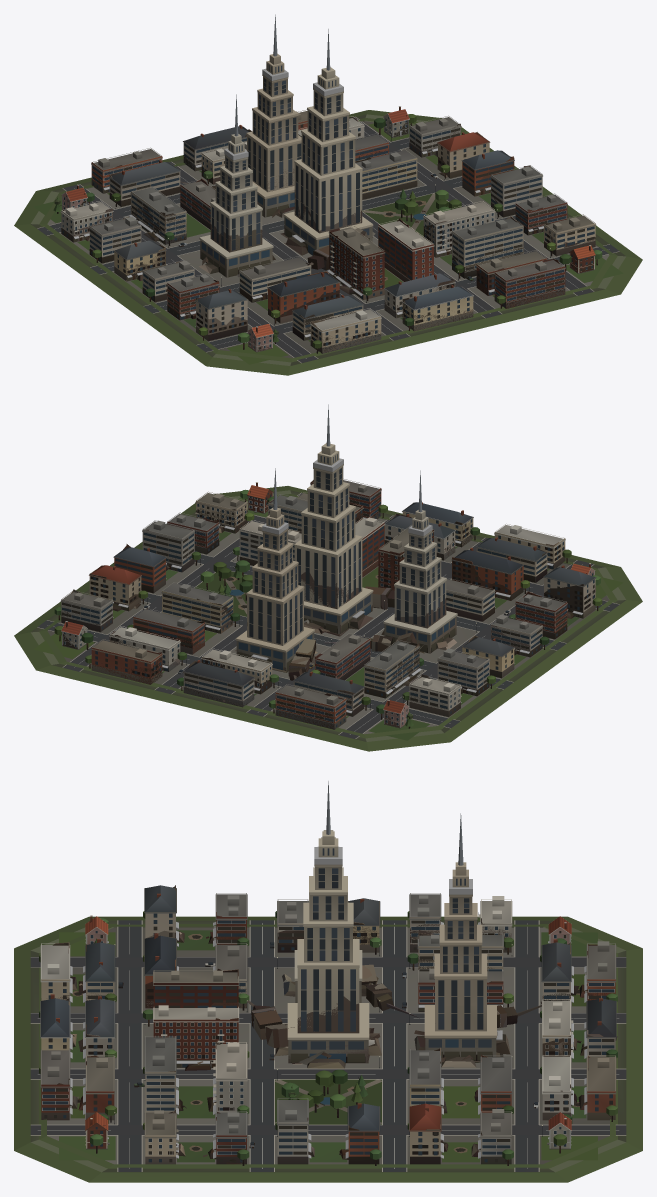
The model's file is city_ww2_city_fractured.glb.
3 renders of one model, top to bottom at view 1: azimuth 30°, elevation 25°; view 2: azimuth 150°, elevation 25°; view 3: azimuth 270°, elevation 25°, orthographic. The views are drawn at different scales.
Parts seen in each view (by area): view 1: city_ww2_city_DMG_mesh, city_ww2_city_RUIN_LOD0_mesh, city_ww2_city_RUIN_LOD1_mesh, city_ww2_city_RUIN_LOD2_mesh, city_ww2_city_FRAC_static_mesh, city_ww2_city_FRAC_16_mesh, city_ww2_city_FRAC_01_mesh, city_ww2_city_FRAC_05_mesh, city_ww2_city_FRAC_12_mesh, city_ww2_city_FRAC_19_mesh, city_ww2_city_FRAC_03_mesh, city_ww2_city_FRAC_24_mesh (+18 smaller); view 2: city_ww2_city_DMG_mesh, city_ww2_city_RUIN_LOD0_mesh, city_ww2_city_RUIN_LOD1_mesh, city_ww2_city_RUIN_LOD2_mesh, city_ww2_city_FRAC_static_mesh, city_ww2_city_FRAC_01_mesh, city_ww2_city_FRAC_05_mesh, city_ww2_city_FRAC_12_mesh, city_ww2_city_FRAC_20_mesh, city_ww2_city_FRAC_13_mesh, city_ww2_city_FRAC_03_mesh, city_ww2_city_FRAC_25_mesh (+19 smaller); view 3: city_ww2_city_DMG_mesh, city_ww2_city_RUIN_LOD0_mesh, city_ww2_city_RUIN_LOD2_mesh, city_ww2_city_FRAC_static_mesh, city_ww2_city_RUIN_LOD1_mesh, city_ww2_city_FRAC_16_mesh, city_ww2_city_FRAC_01_mesh, city_ww2_city_FRAC_03_mesh, city_ww2_city_FRAC_19_mesh, city_ww2_city_FRAC_21_mesh, city_ww2_city_FRAC_20_mesh, city_ww2_city_FRAC_25_mesh (+16 smaller).
Boxes of the visible parts, left/top/right/bottom form: city_ww2_city_DMG_mesh: left=37, top=15, right=619, bottom=353; city_ww2_city_RUIN_LOD0_mesh: left=26, top=113, right=630, bottom=368; city_ww2_city_RUIN_LOD1_mesh: left=14, top=110, right=642, bottom=375; city_ww2_city_RUIN_LOD2_mesh: left=39, top=117, right=617, bottom=362; city_ww2_city_FRAC_static_mesh: left=37, top=116, right=619, bottom=363; city_ww2_city_FRAC_16_mesh: left=328, top=219, right=434, bottom=298; city_ww2_city_FRAC_01_mesh: left=294, top=29, right=362, bottom=197; city_ww2_city_FRAC_05_mesh: left=210, top=94, right=262, bottom=239; city_ww2_city_FRAC_12_mesh: left=239, top=256, right=340, bottom=317; city_ww2_city_FRAC_19_mesh: left=423, top=201, right=523, bottom=280; city_ww2_city_FRAC_03_mesh: left=247, top=17, right=301, bottom=176; city_ww2_city_FRAC_24_mesh: left=461, top=150, right=542, bottom=211; city_ww2_city_DMG_mesh: left=37, top=410, right=619, bottom=729; city_ww2_city_RUIN_LOD0_mesh: left=26, top=480, right=630, bottom=744; city_ww2_city_RUIN_LOD1_mesh: left=14, top=486, right=642, bottom=751; city_ww2_city_RUIN_LOD2_mesh: left=39, top=493, right=617, bottom=738; city_ww2_city_FRAC_static_mesh: left=37, top=492, right=619, bottom=738; city_ww2_city_FRAC_01_mesh: left=294, top=404, right=362, bottom=573; city_ww2_city_FRAC_05_mesh: left=394, top=470, right=446, bottom=615; city_ww2_city_FRAC_12_mesh: left=441, top=547, right=529, bottom=615; city_ww2_city_FRAC_20_mesh: left=127, top=583, right=236, bottom=646; city_ww2_city_FRAC_13_mesh: left=314, top=633, right=420, bottom=695; city_ww2_city_FRAC_03_mesh: left=247, top=468, right=303, bottom=630; city_ww2_city_FRAC_25_mesh: left=54, top=565, right=149, bottom=624; city_ww2_city_DMG_mesh: left=39, top=782, right=617, bottom=1171; city_ww2_city_RUIN_LOD0_mesh: left=26, top=885, right=630, bottom=1174; city_ww2_city_RUIN_LOD2_mesh: left=30, top=924, right=626, bottom=1168; city_ww2_city_FRAC_static_mesh: left=30, top=920, right=626, bottom=1171; city_ww2_city_RUIN_LOD1_mesh: left=14, top=886, right=642, bottom=1182; city_ww2_city_FRAC_16_mesh: left=143, top=970, right=249, bottom=1067; city_ww2_city_FRAC_01_mesh: left=297, top=787, right=359, bottom=989; city_ww2_city_FRAC_03_mesh: left=435, top=813, right=486, bottom=1012; city_ww2_city_FRAC_19_mesh: left=134, top=1036, right=249, bottom=1114; city_ww2_city_FRAC_21_mesh: left=534, top=1056, right=616, bottom=1114; city_ww2_city_FRAC_20_mesh: left=407, top=1050, right=512, bottom=1114; city_ww2_city_FRAC_25_mesh: left=407, top=1103, right=513, bottom=1165.
Size of the model in its own units: 266 by 127 by 266.
